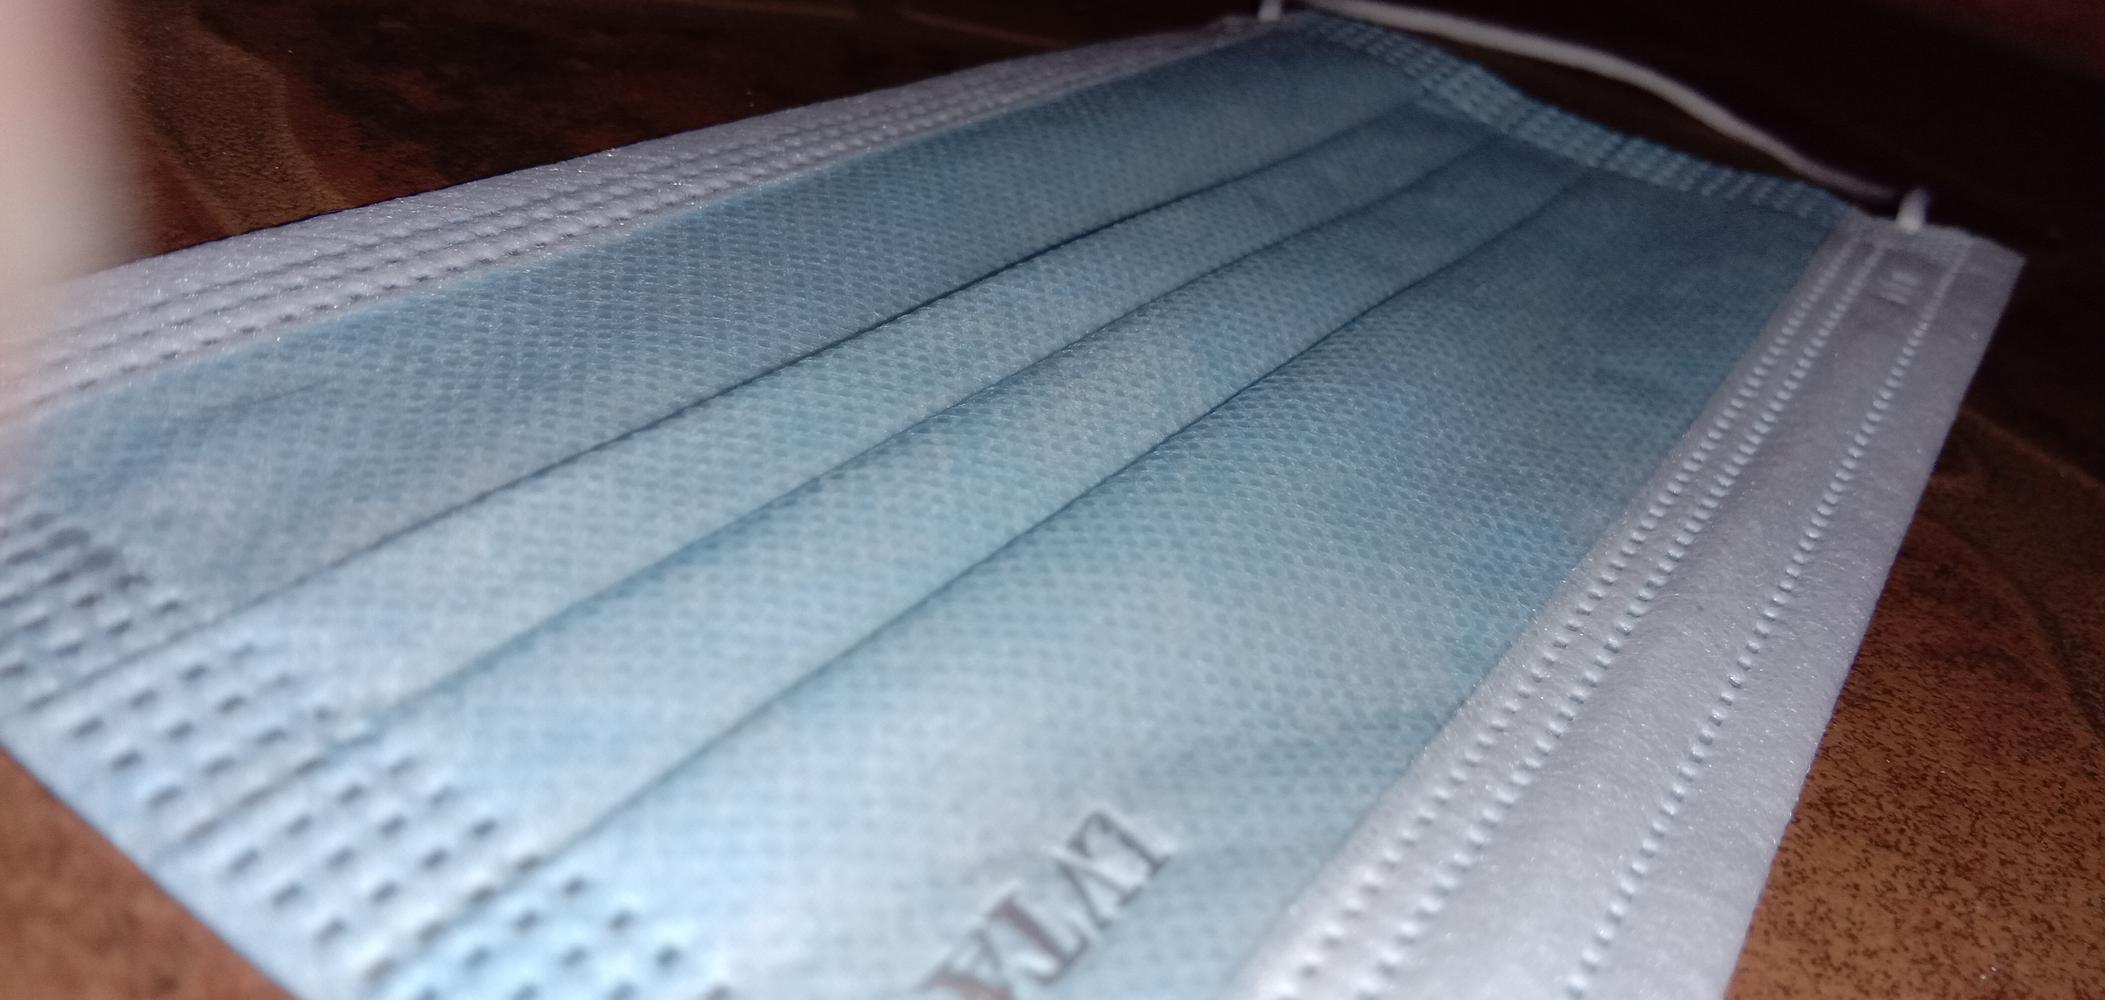Face Mask: (26, 27, 2015, 1000)
